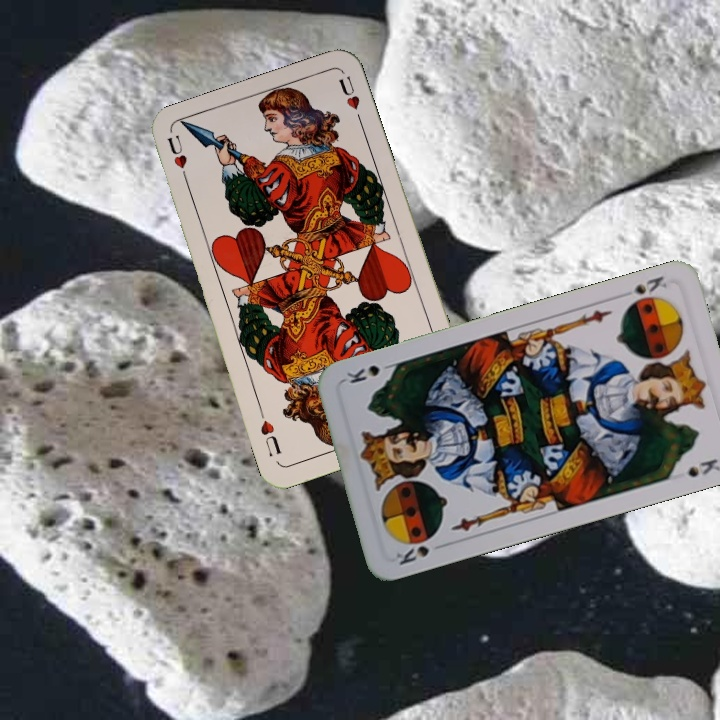HU: (163, 130, 192, 188)
SK: (391, 539, 449, 568), (616, 272, 670, 301)
